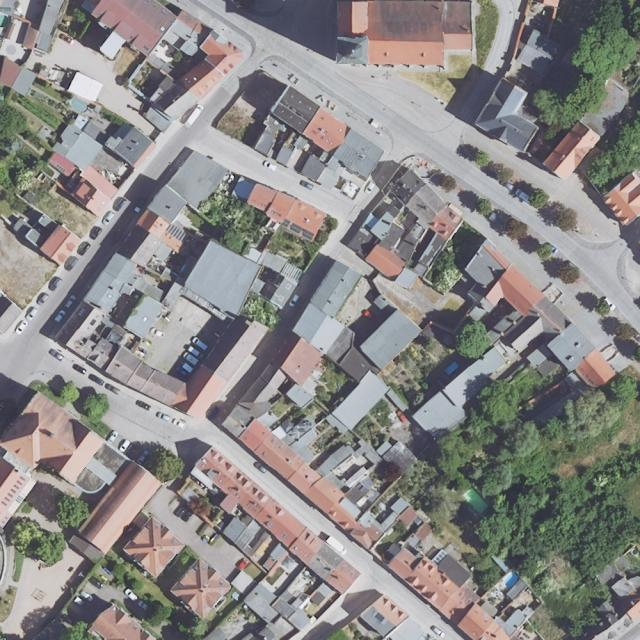PV: (290, 223, 315, 241), (166, 224, 189, 243), (281, 218, 291, 229)
